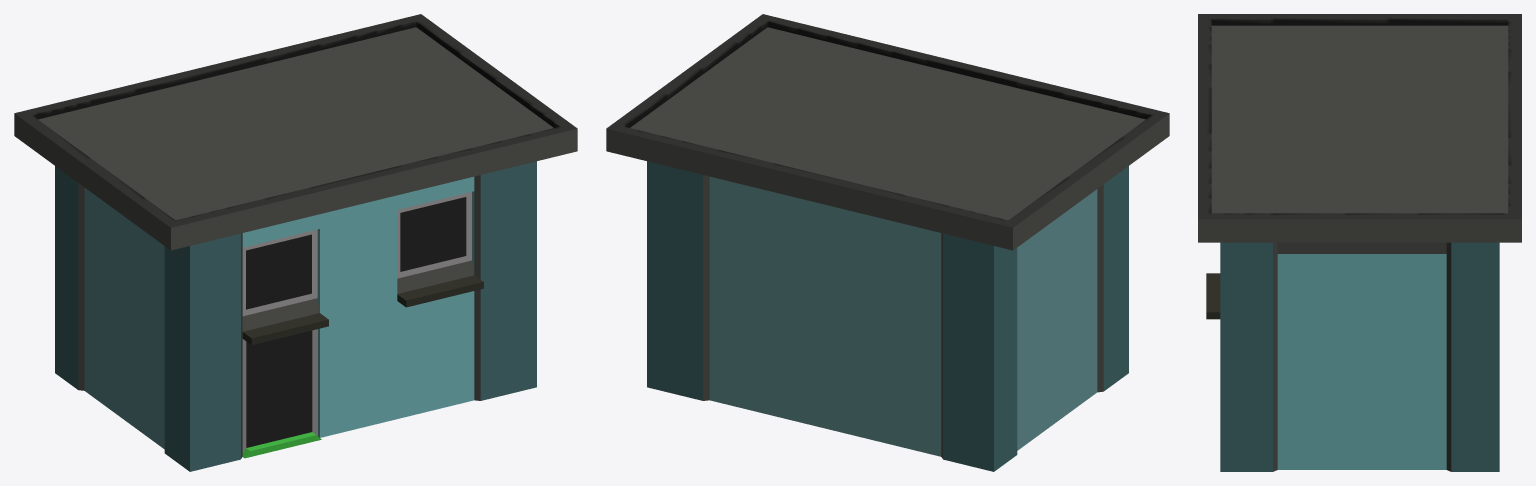
Rendered from House.fbx.
3 renders of one model, left to right at view 1: azimuth 30°, elevation 25°; view 2: azimuth 150°, elevation 25°; view 3: azimuth 270°, elevation 25°, orthographic. The views are drawn at different scales.
Parts seen in each view (by area): view 1: House; view 2: House; view 3: House.
Boxes of the visible parts, bbox=[...] form: House: bbox=[14, 14, 577, 471]; House: bbox=[606, 14, 1169, 471]; House: bbox=[1198, 14, 1521, 471].
Size of the model in its own units: 720 by 438 by 480.
